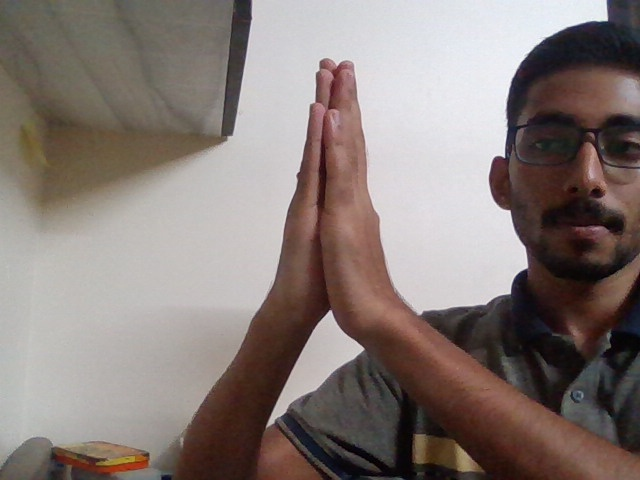Thank You: (255, 43, 410, 358)
